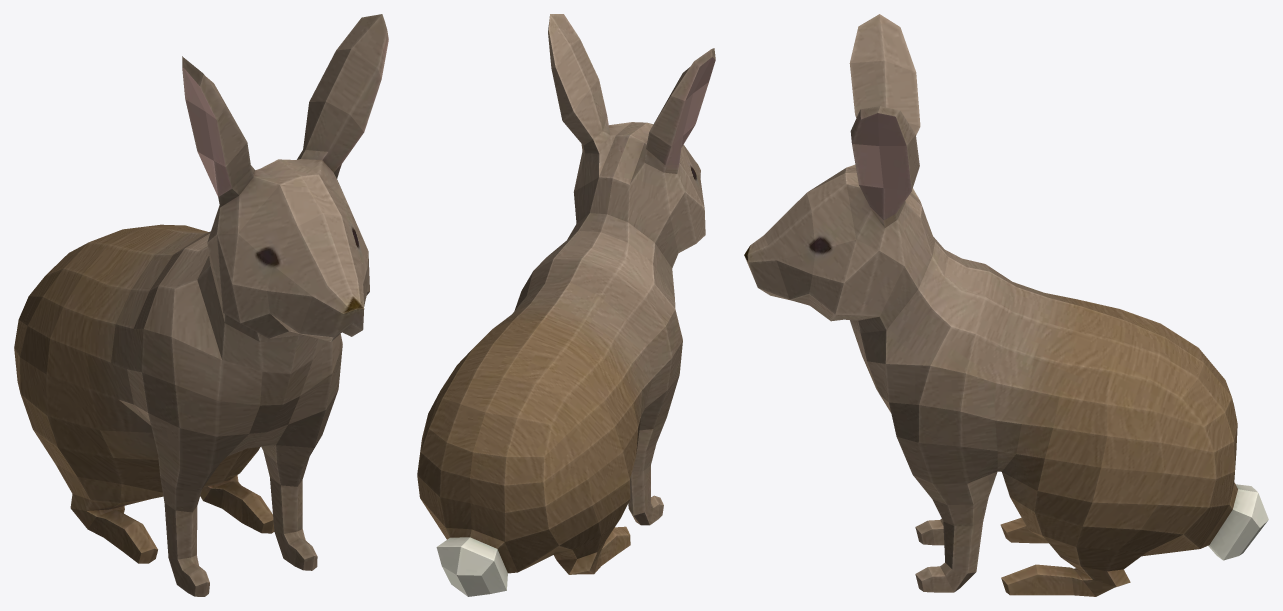
Rendered from rabbit.glb.
3 views of the same model, side by side, from view 1: azimuth 30°, elevation 25°; view 2: azimuth 150°, elevation 25°; view 3: azimuth 270°, elevation 25° (orthographic). The views are drawn at different scales.
Visible parts, largest first — view 1: Cottontails_mesh; view 2: Cottontails_mesh; view 3: Cottontails_mesh.
Boxes of the visible parts, x1=… form: Cottontails_mesh: x1=14, y1=14, x2=388, y2=596; Cottontails_mesh: x1=417, y1=14, x2=715, y2=596; Cottontails_mesh: x1=744, y1=14, x2=1268, y2=596.
Size of the model in its own units: 3.23 by 7.63 by 7.13.
Materials: 1 (1 with a texture image).
